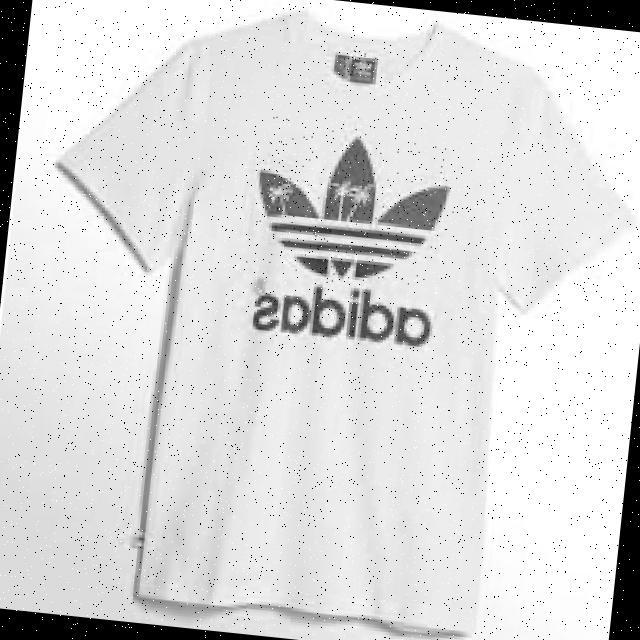Adidas: (241, 115, 467, 296), (342, 50, 379, 79)
